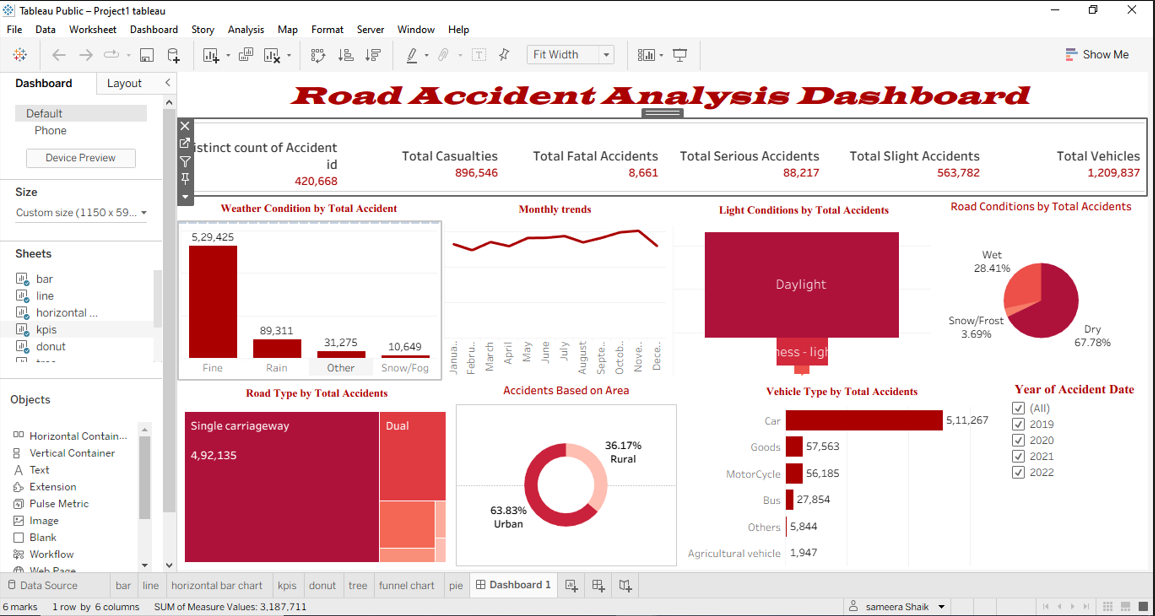

Layout of this report page (visuals, bound fields, positions):
{"tool":"tableau","page":{"name":"Dashboard 1","canvas":[1150,590],"ordinal":0},"visuals":[{"type":"text","box":[0,0,1150,56]},{"type":"worksheet","title":"kpis","mark":"Automatic","box":[0,56,1150,90]},{"type":"text","box":[0,146,312,32]},{"type":"text","box":[312,146,271,30]},{"type":"text","box":[583,146,314,32]},{"type":"text","box":[897,146,253,26]},{"type":"worksheet","title":"line","mark":"Line","rows":["Index"],"cols":["Accident Date"],"box":[312,176,271,188]},{"type":"worksheet","title":"bar","mark":"Bar","rows":["Index"],"box":[0,178,312,186]},{"type":"worksheet","title":"funnel chart","mark":"Automatic","rows":["Index"],"box":[583,178,314,186]},{"type":"worksheet","title":"pie","mark":"Pie","box":[897,178,253,186]},{"type":"text","box":[0,364,326,30]},{"type":"text","box":[326,364,270,26]},{"type":"text","box":[596,364,383,29]},{"type":"filter","title":"line","param":"[federated.0p462db1isv1po1c68vm811s3jzz].[yr:Accident Date:ok]","box":[979,364,168,194]},{"type":"worksheet","title":"donut","mark":"Pie","rows":["Calculation_0910718674313218","Calculation_0910718674313218"],"box":[326,390,270,200]},{"type":"worksheet","title":"horizontal bar chart","mark":"Bar","cols":["Index"],"box":[596,393,383,197]},{"type":"worksheet","title":"tree","mark":"Automatic","box":[0,394,326,196]}]}

Visuals, with their boxes on the page's 1150x590 design canvas (x1, y1, x2, y2). These are canvas units, not pixel positions in the 1155x616 screenshot, which may show the page scaled, cropped or inside an application window:
text: [0, 0, 1150, 56]
"kpis" worksheet: [0, 56, 1150, 146]
text: [0, 146, 312, 178]
text: [312, 146, 583, 176]
text: [583, 146, 897, 178]
text: [897, 146, 1150, 172]
"line" worksheet (Line marks): [312, 176, 583, 364]
"bar" worksheet (Bar marks): [0, 178, 312, 364]
"funnel chart" worksheet: [583, 178, 897, 364]
"pie" worksheet (Pie marks): [897, 178, 1150, 364]
text: [0, 364, 326, 394]
text: [326, 364, 596, 390]
text: [596, 364, 979, 393]
"line" filter: [979, 364, 1147, 558]
"donut" worksheet (Pie marks): [326, 390, 596, 590]
"horizontal bar chart" worksheet (Bar marks): [596, 393, 979, 590]
"tree" worksheet: [0, 394, 326, 590]
